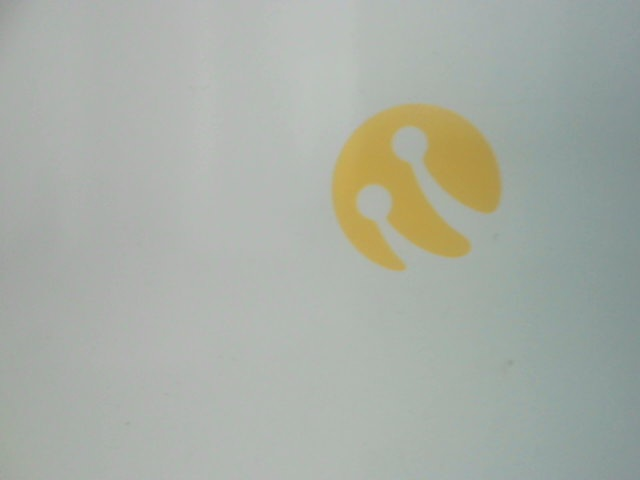AV_H3600Yellow: (310, 86, 522, 273)
